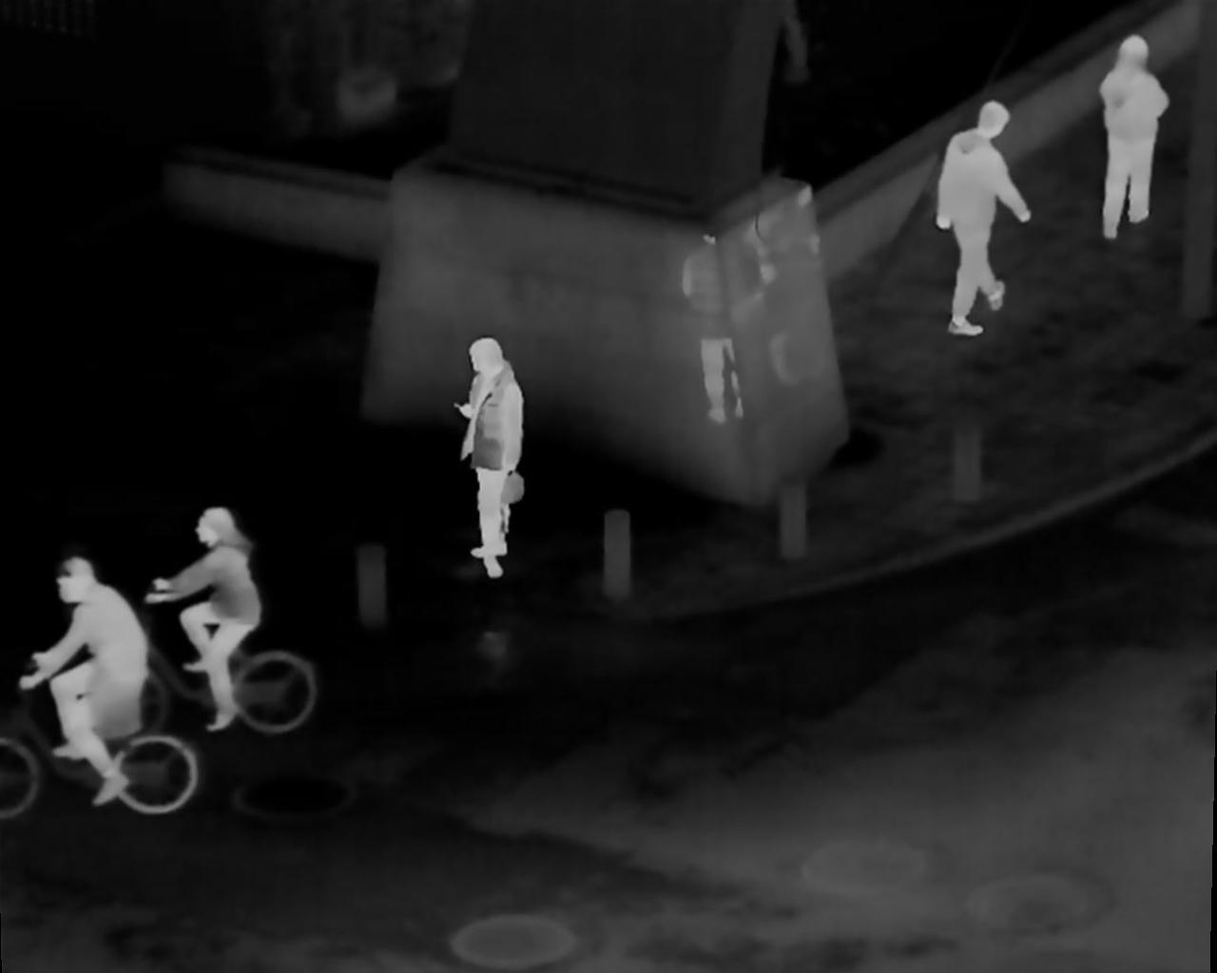person: (32, 559, 151, 804), (923, 100, 1030, 343), (164, 506, 260, 731), (460, 339, 526, 570), (1097, 33, 1168, 242)
